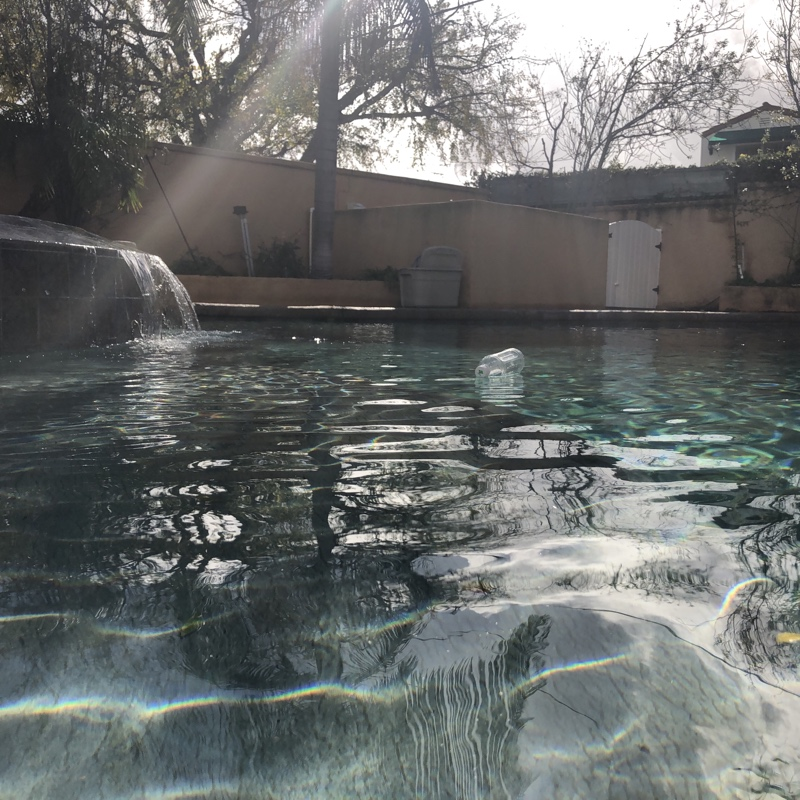Plastic Bottle: (472, 348, 528, 383)
